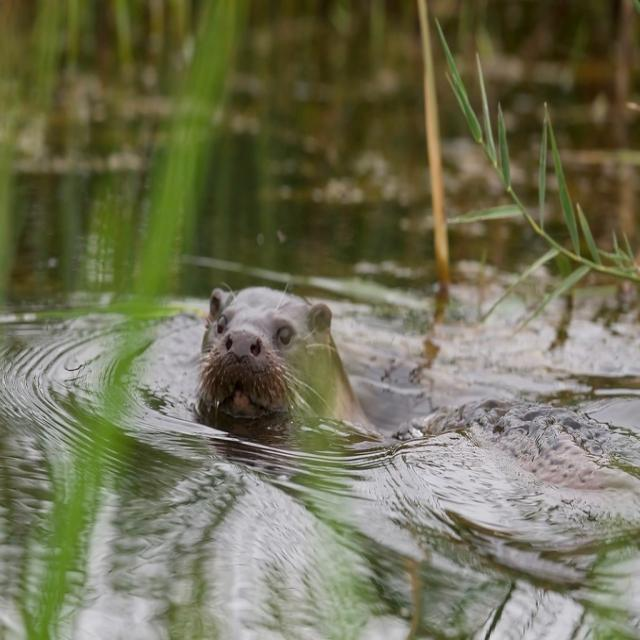otter: (202, 290, 342, 422)
